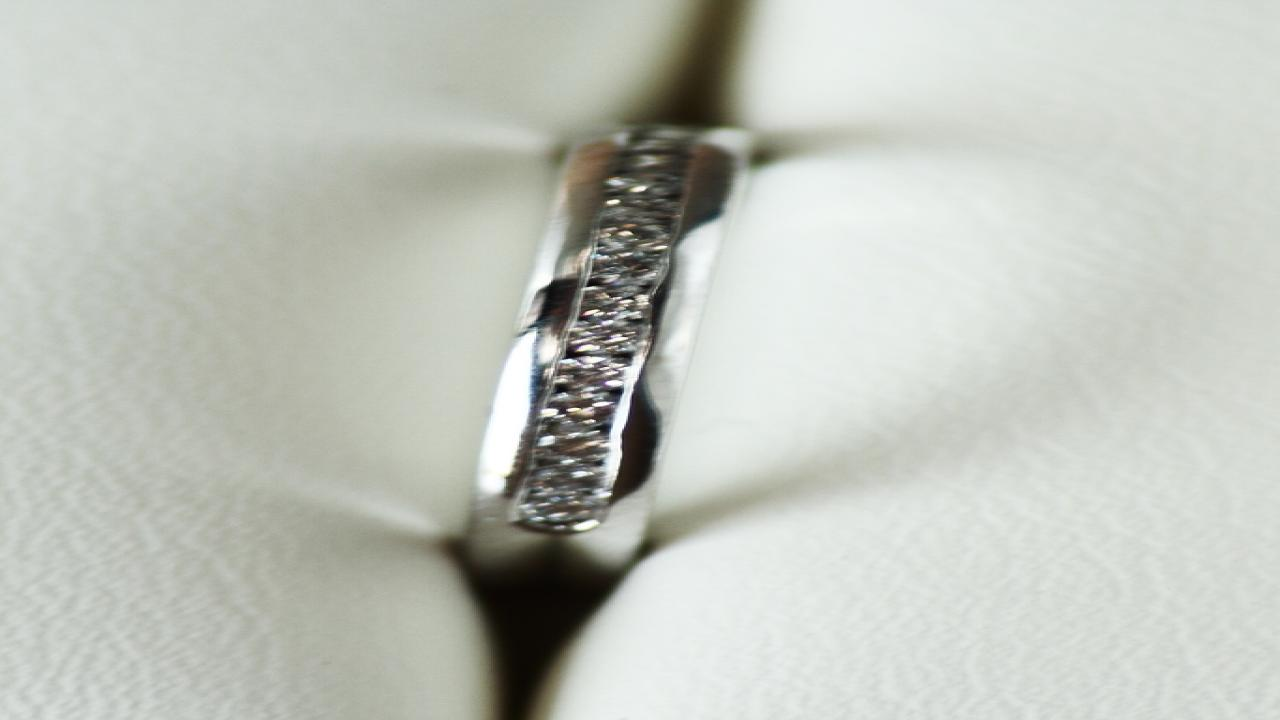ring: (468, 119, 752, 536)
